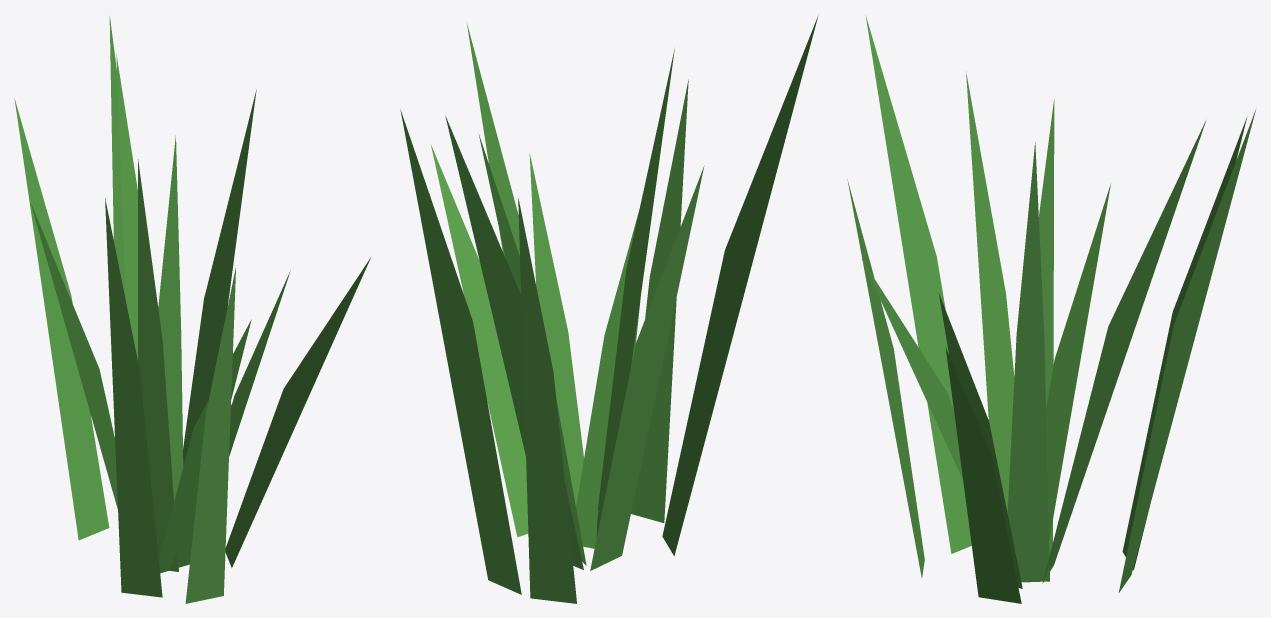
File: sea_grass.glb
3 views of the same model, side by side, from view 1: azimuth 30°, elevation 25°; view 2: azimuth 150°, elevation 25°; view 3: azimuth 270°, elevation 25° (orthographic). The views are drawn at different scales.
Visible parts, largest first — view 1: sea_grass; view 2: sea_grass; view 3: sea_grass.
Part boxes in pixels (box(x1,y1,x2,y2)): sea_grass: box(14, 16, 370, 603); sea_grass: box(400, 16, 817, 603); sea_grass: box(847, 15, 1255, 603).
Size of the model in its own units: 0.4105 by 0.5916 by 0.4447.
